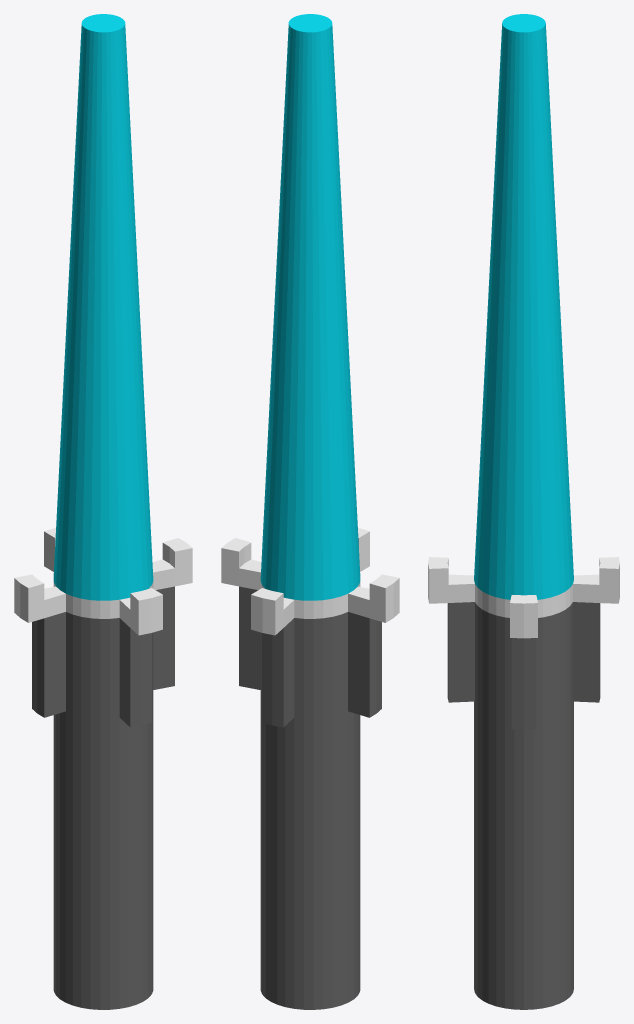
Rendered from ışın bıçağı.fbx.
The picture shows the model from 3 angles, left to right: view 1: azimuth 30°, elevation 25°; view 2: azimuth 150°, elevation 25°; view 3: azimuth 270°, elevation 25°; orthographic projection.
Visible parts, largest first — view 1: Cylinder; view 2: Cylinder; view 3: Cylinder.
Boxes of the visible parts, bbox=[...] form: Cylinder: bbox=[14, 14, 192, 1009]; Cylinder: bbox=[221, 14, 399, 1009]; Cylinder: bbox=[428, 14, 619, 1009].
Size of the model in its own units: 30.3 by 168 by 30.3.
